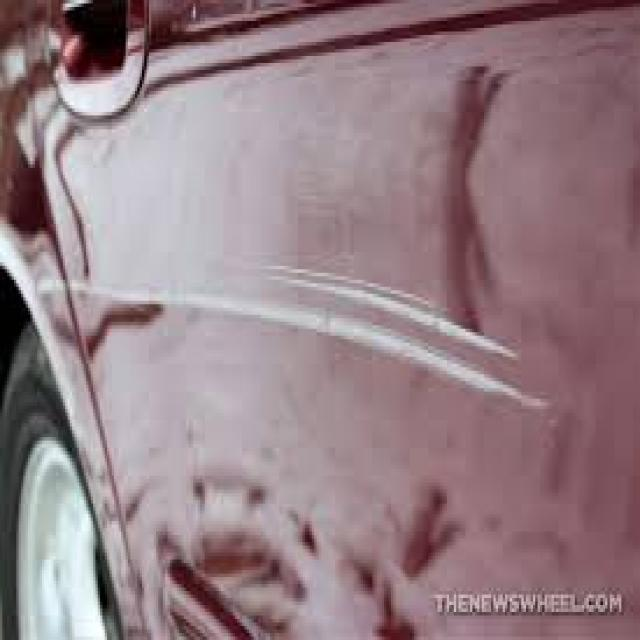car damage: (414, 51, 516, 334)
